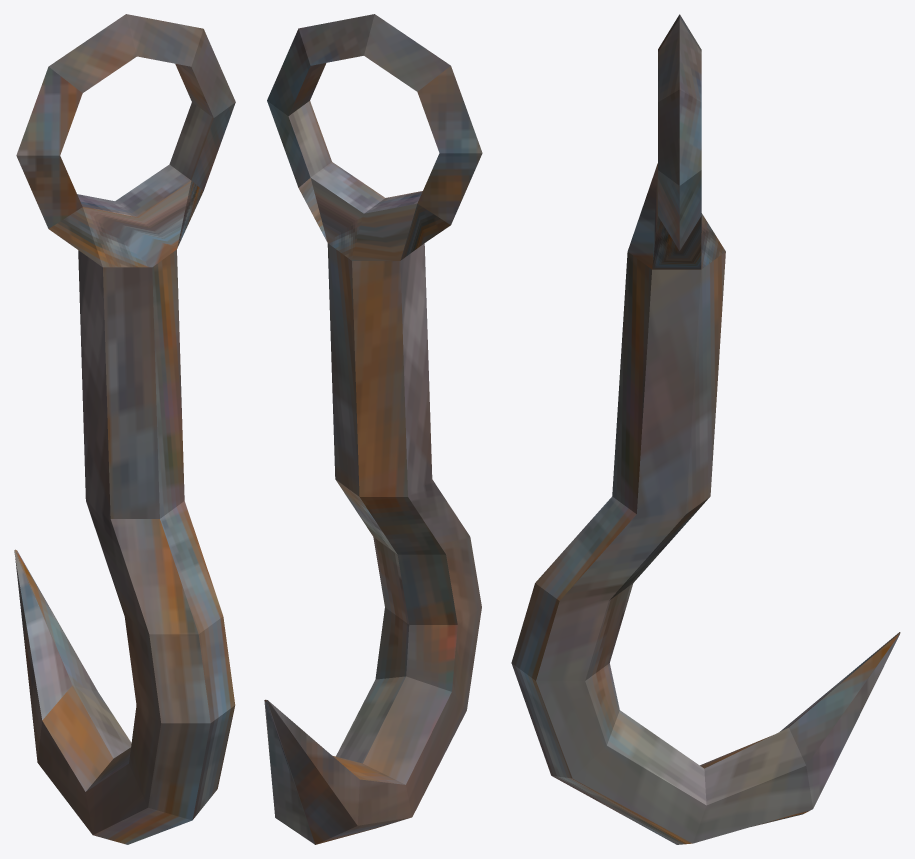
The model's file is Meat hook.fbx.
The picture shows the model from 3 angles, left to right: view 1: azimuth 30°, elevation 25°; view 2: azimuth 150°, elevation 25°; view 3: azimuth 270°, elevation 25°; orthographic projection.
Visible parts, largest first — view 1: Torus; view 2: Torus; view 3: Torus.
Part boxes in pixels (x1,y1,x2,y2): Torus: (14,14,235,844); Torus: (264,14,482,844); Torus: (511,14,900,844).
Size of the model in its own units: 7.14 by 25.78 by 11.
Materials: 1 (1 with a texture image).
